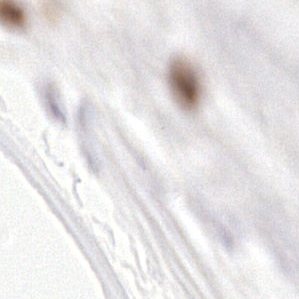Lymphocyte: (168, 55, 202, 104)
